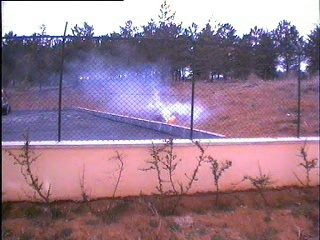smoke: (81, 56, 203, 128)
